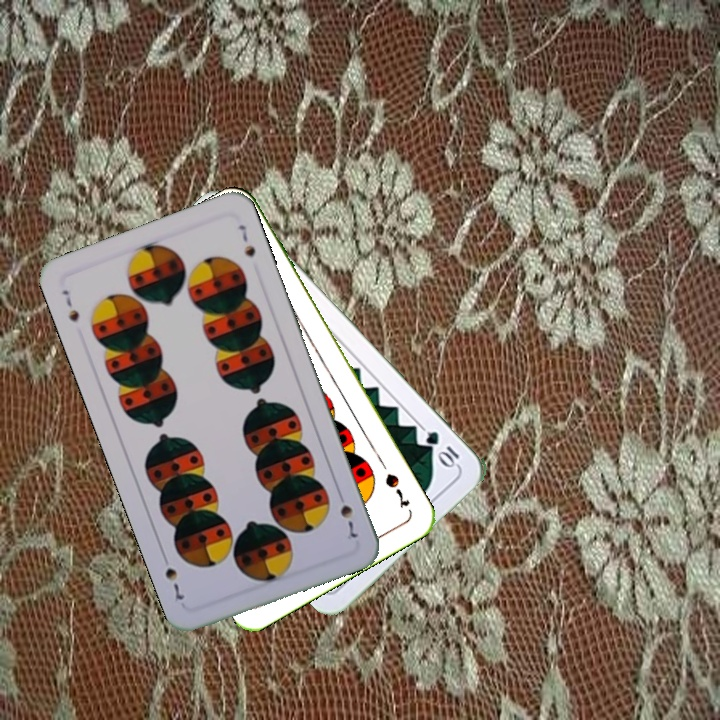G10: (421, 426, 462, 470)
S7: (333, 486, 361, 541), (381, 469, 413, 511), (57, 285, 82, 324)
